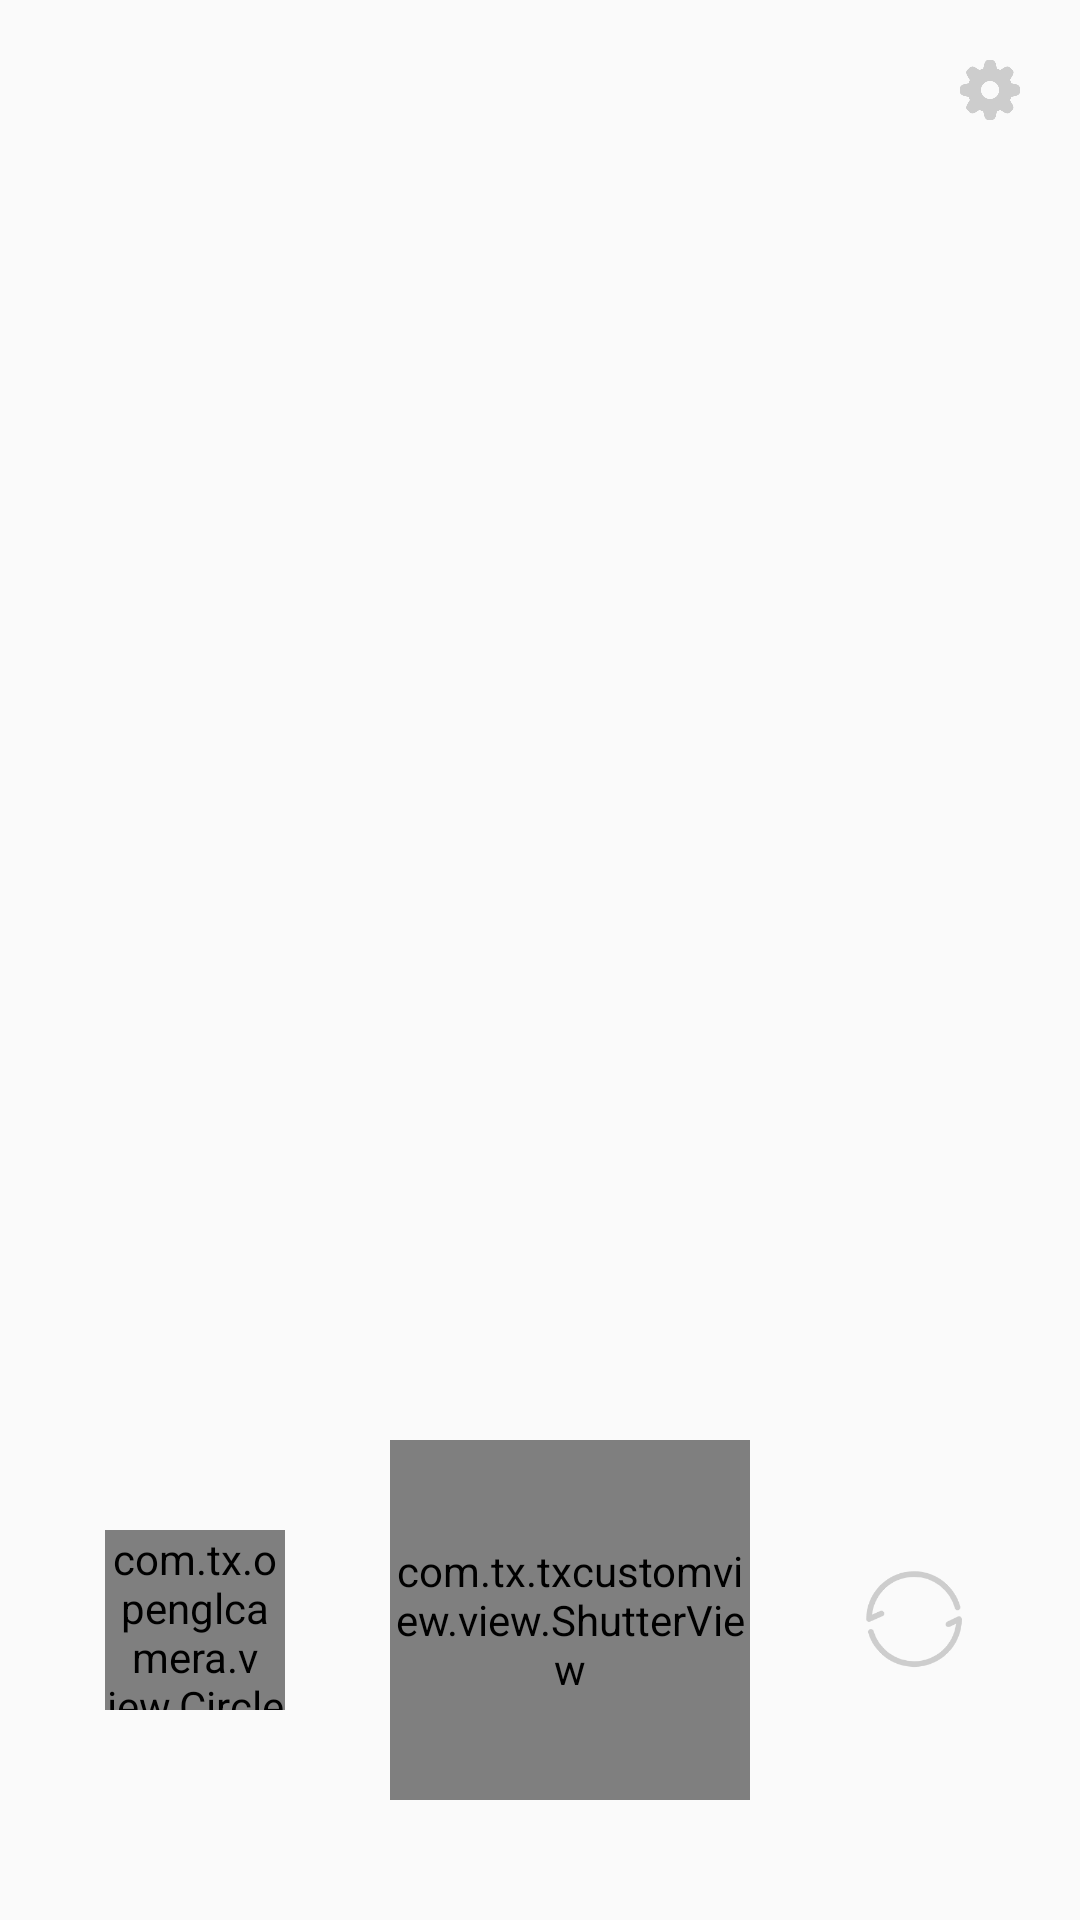

Point at icon controls on the screen. Image size 1080 × 1920, points as (x,y).
settings: (990,90)
toggle camera: (914,1619)
